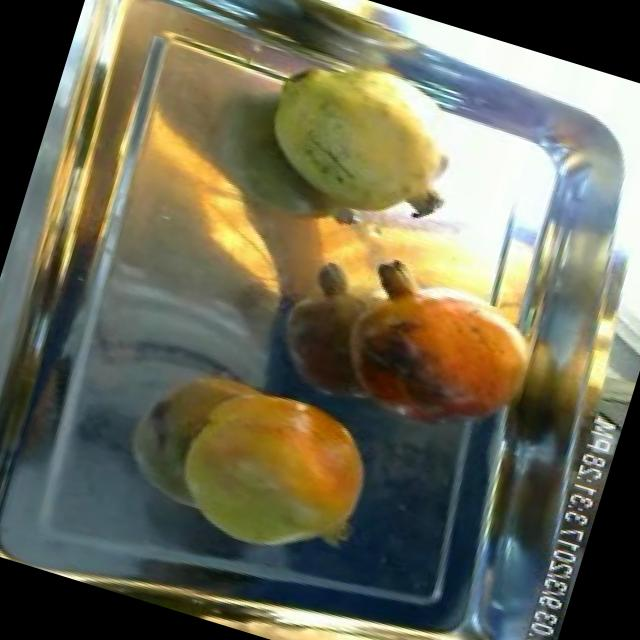fruit: (150, 356, 404, 584), (236, 35, 489, 249), (314, 246, 562, 464)
